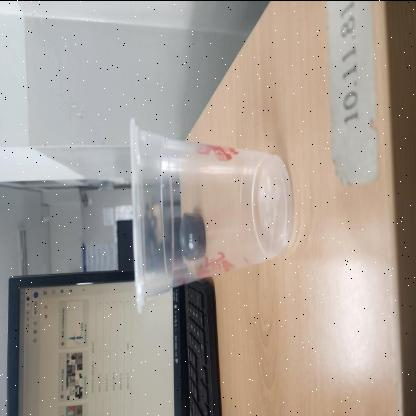Others: (130, 116, 294, 314)
